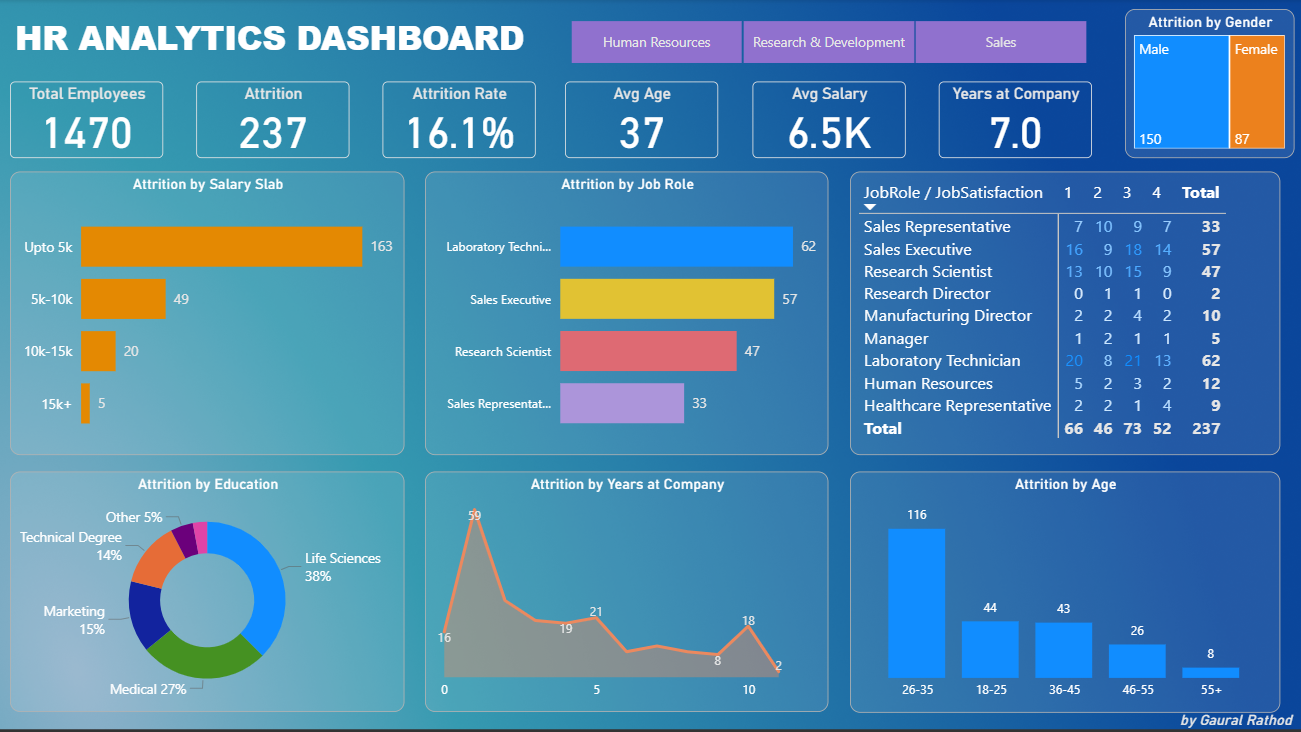

The page's visual inventory and layout, read from the dashboard file:
{"tool":"powerbi","page":{"name":"Dashboard","canvas":[1280,720],"ordinal":0},"visuals":[{"type":"card","title":"Total Employees","fields":{"Values":["CountNonNull(HR Analytics.EmpID)"]},"box":[9.8,81,150,75],"z":0},{"type":"card","title":"Attrition","fields":{"Values":["Sum(HR Analytics.AttritionCount)"]},"box":[192.6,81,150,75],"z":1000},{"type":"card","title":"Attrition Rate","fields":{"Values":["HR Analytics.AttritionRate"]},"box":[375,81.2,150,75],"z":2000},{"type":"card","title":"Avg Age","fields":{"Values":["Avg(HR Analytics.Age)"]},"box":[555,81.2,150,75],"z":3000},{"type":"card","title":"Years at Company","fields":{"Values":["Avg(HR Analytics.YearsAtCompany)"]},"box":[921.2,81.2,150,75],"z":4000},{"type":"card","title":"Avg Salary","fields":{"Values":["Avg(HR Analytics.MonthlyIncome)"]},"box":[738.8,81.2,150,75],"z":5000},{"type":"donutChart","title":"Attrition by Education","fields":{"Category":["HR Analytics.EducationField"],"Y":["Sum(HR Analytics.AttritionCount)"]},"box":[10,463.8,387.5,236.2],"z":6000},{"type":"pivotTable","title":"Attrition by Job Role and Job Satisfaction","fields":{"Columns":["HR Analytics.JobSatisfaction"],"Values":["Sum(HR Analytics.AttritionCount)"],"Rows":["HR Analytics.JobRole"]},"box":[833.8,168.8,422.5,278.8],"z":7000},{"type":"barChart","title":"Attrition by Salary Slab","fields":{"Category":["HR Analytics.SalarySlab"],"Y":["Sum(HR Analytics.AttritionCount)"]},"box":[10,168.8,387.5,278.8],"z":8000},{"type":"barChart","title":"Attrition by Job Role","fields":{"Y":["Sum(HR Analytics.AttritionCount)"],"Category":["HR Analytics.JobRole"]},"box":[417.2,169.3,396.3,278.5],"z":9000},{"type":"areaChart","title":"Attrition by Years at Company","fields":{"Category":["HR Analytics.YearsAtCompany"],"Y":["Sum(HR Analytics.AttritionCount)"]},"box":[417.5,463.8,396.2,236.2],"z":10000},{"type":"treemap","title":"Attrition by Gender","fields":{"Group":["HR Analytics.Gender"],"Values":["Sum(HR Analytics.AttritionCount)"]},"box":[1103.8,10,166.2,146.2],"z":11000},{"type":"slicer","fields":{"Values":["HR Analytics.Department"]},"box":[535,15,555,55],"z":12000},{"type":"textbox","box":[10,10,515,60],"z":13000},{"type":"columnChart","title":"Attrition by Age","fields":{"Category":["HR Analytics.AgeGroup"],"Y":["Sum(HR Analytics.AttritionCount)"]},"box":[834.4,463.8,422.1,236.8],"z":14000},{"type":"textbox","title":"by Gaural Rathod","box":[1153.8,700,126.2,20],"z":15000}]}

Visuals, with their boxes in screenshot pixels (x1, y1, x2, y2), scaled from the page's 1280x720 canvas onto the 1301x732 screenshot:
"Total Employees" card: box(10, 82, 162, 159)
"Attrition" card: box(196, 82, 348, 159)
"Attrition Rate" card: box(381, 83, 534, 159)
"Avg Age" card: box(564, 83, 717, 159)
"Years at Company" card: box(936, 83, 1089, 159)
"Avg Salary" card: box(751, 83, 903, 159)
"Attrition by Education" donutChart: box(10, 472, 404, 712)
"Attrition by Job Role and Job Satisfaction" pivotTable: box(847, 172, 1277, 455)
"Attrition by Salary Slab" barChart: box(10, 172, 404, 455)
"Attrition by Job Role" barChart: box(424, 172, 827, 455)
"Attrition by Years at Company" areaChart: box(424, 472, 827, 712)
"Attrition by Gender" treemap: box(1122, 10, 1291, 159)
slicer - HR Analytics.Department: box(544, 15, 1108, 71)
textbox: box(10, 10, 534, 71)
"Attrition by Age" columnChart: box(848, 472, 1277, 712)
"by Gaural Rathod" textbox: box(1173, 712, 1300, 731)
